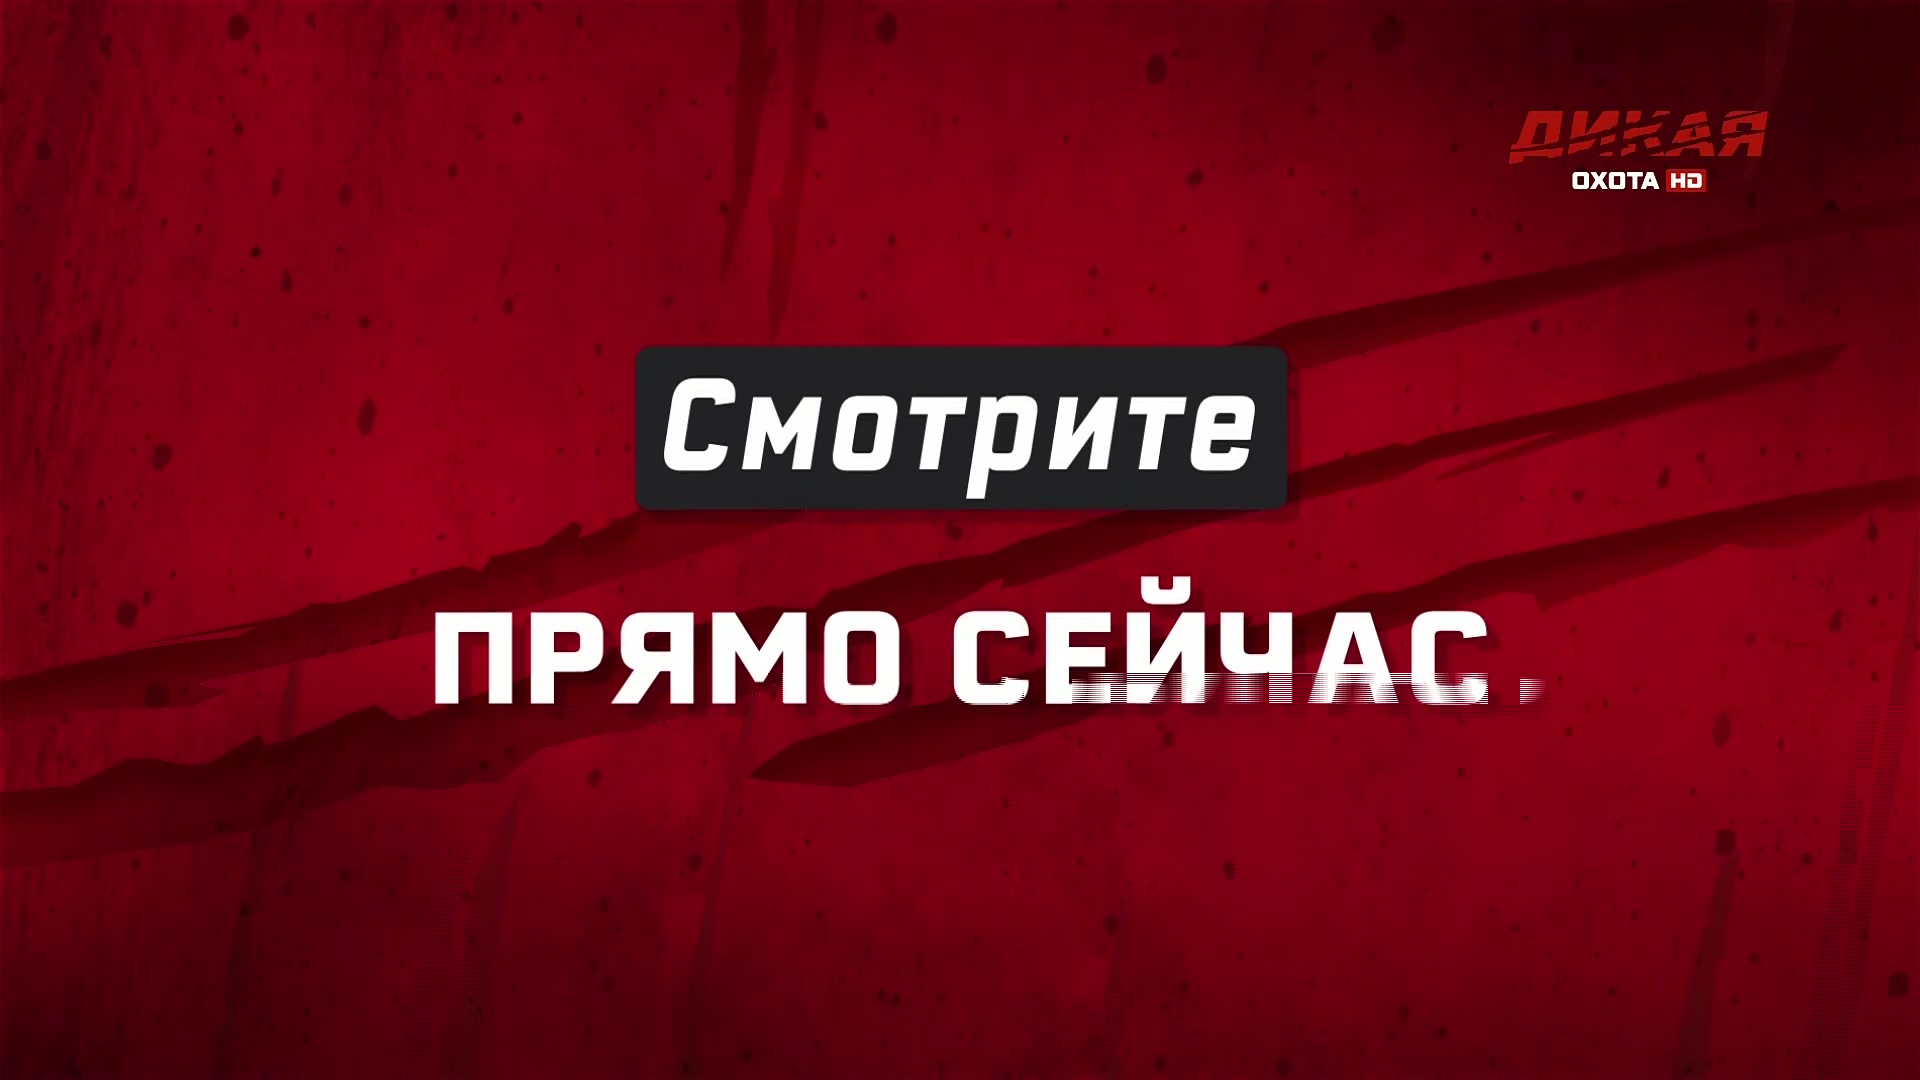Dikaya_Ohota_HD: (1506, 104, 1774, 196)
